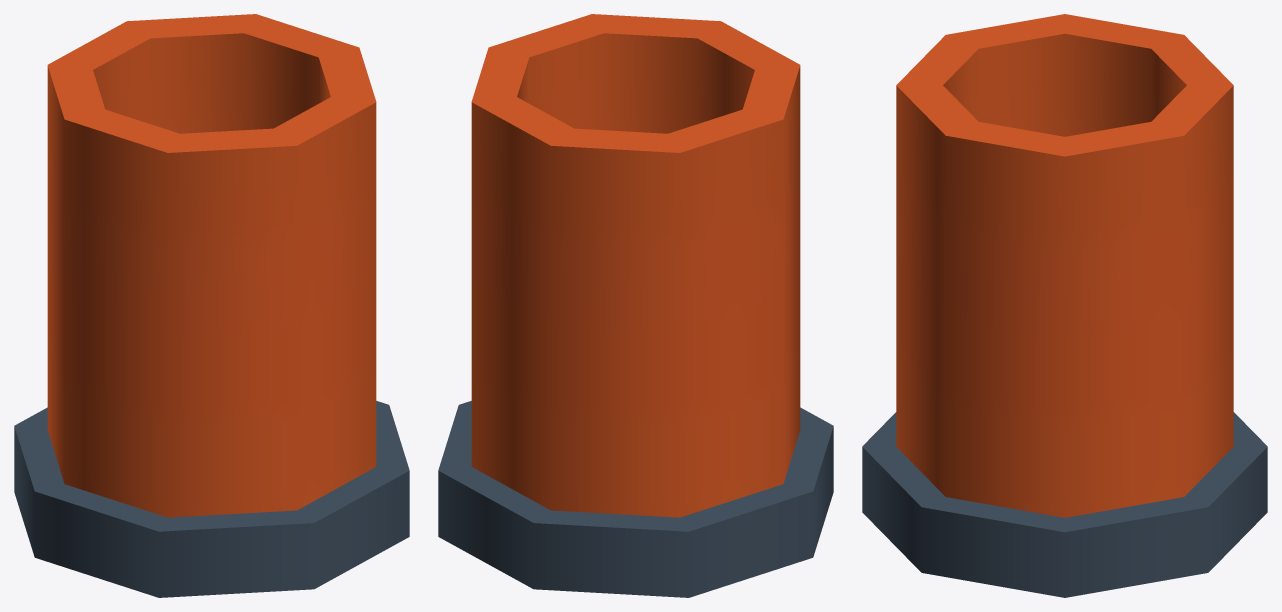
Rendered from Chimney_1_A_4.fbx.
3 renders of one model, left to right at view 1: azimuth 30°, elevation 25°; view 2: azimuth 150°, elevation 25°; view 3: azimuth 270°, elevation 25°, orthographic.
Parts seen in each view (by area): view 1: Chimney_1_A_4; view 2: Chimney_1_A_4; view 3: Chimney_1_A_4.
Boxes of the visible parts, box(x1,y1,x2,y2) form: Chimney_1_A_4: box(14, 14, 409, 597); Chimney_1_A_4: box(438, 14, 833, 597); Chimney_1_A_4: box(862, 14, 1267, 597).
Size of the model in its own units: 61.78 by 71.75 by 61.78.
